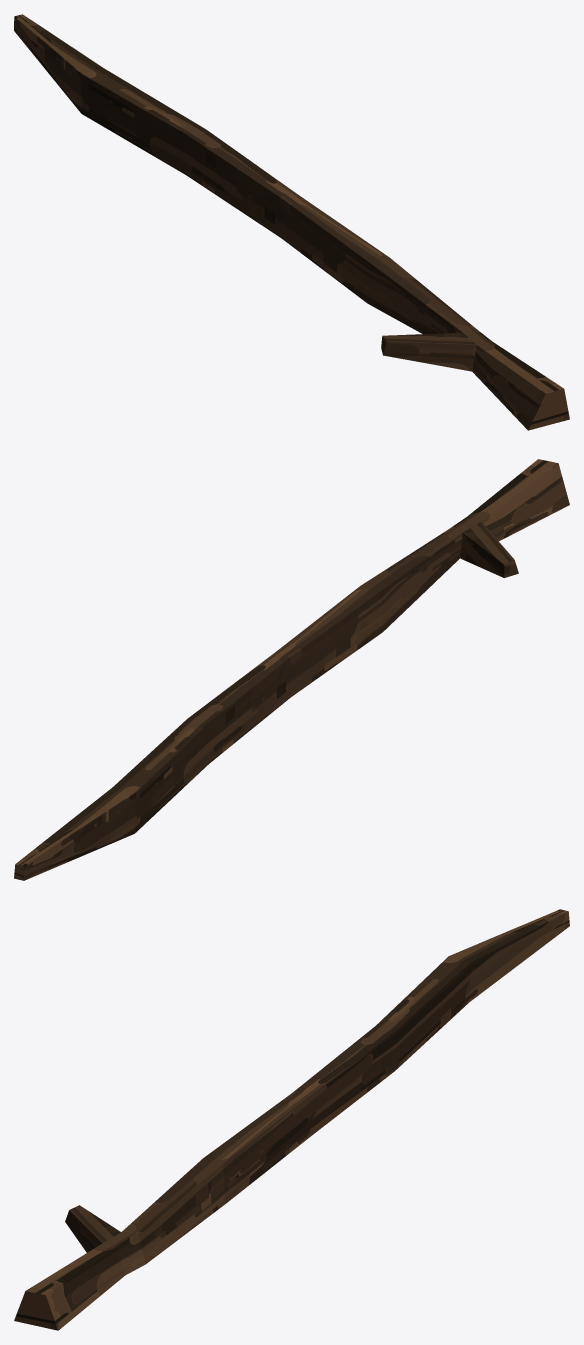
The model's file is stick.fbx.
3 renders of one model, top to bottom at view 1: azimuth 30°, elevation 25°; view 2: azimuth 150°, elevation 25°; view 3: azimuth 330°, elevation 25°, orthographic.
Parts seen in each view (by area): view 1: stick; view 2: stick; view 3: stick.
Part boxes in pixels (x1,y1,x2,y2): stick: [14, 14, 569, 430]; stick: [14, 459, 569, 880]; stick: [14, 909, 569, 1330].
Size of the model in its own units: 5.04 by 2.1 by 49.89.
